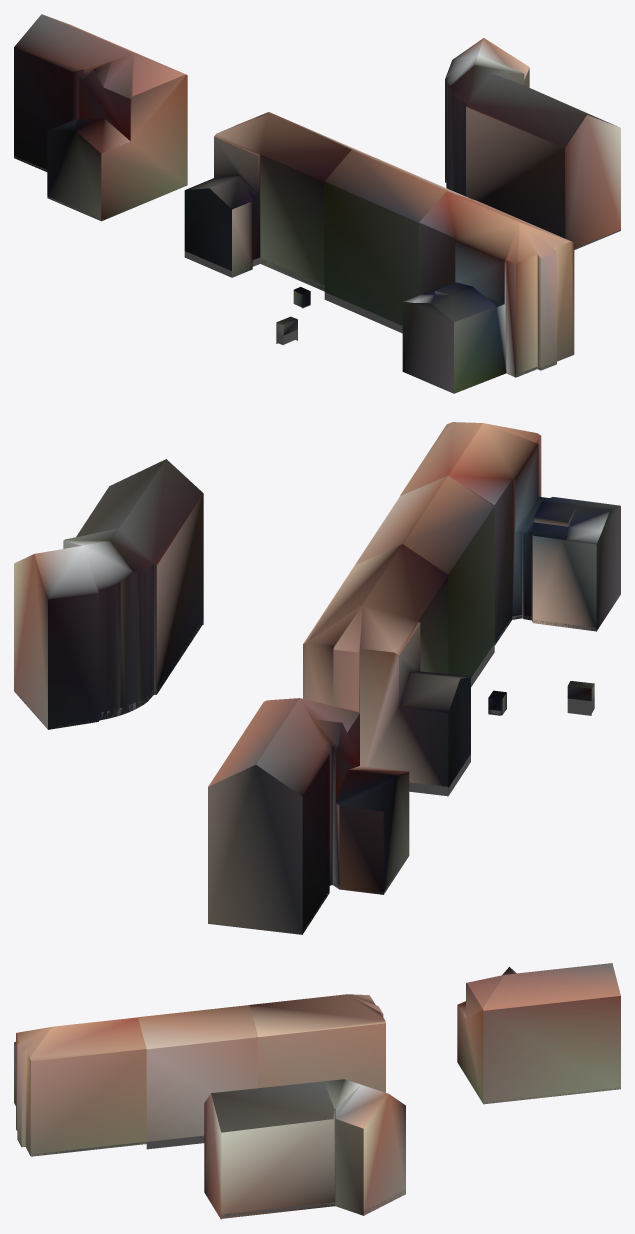
The picture shows the model from 3 angles, top to bottom: view 1: azimuth 30°, elevation 25°; view 2: azimuth 150°, elevation 25°; view 3: azimuth 270°, elevation 25°; orthographic projection. The views are drawn at different scales.
Parts seen in each view (by area): view 1: c_m15_m04; view 2: c_m15_m04; view 3: c_m15_m04.
Part boxes in pixels (x1,y1,x2,y2): c_m15_m04: (14, 14, 620, 393); c_m15_m04: (14, 422, 620, 934); c_m15_m04: (14, 963, 620, 1219).
Bounding box in the file's own units: 94.46 × 32.33 × 147.
